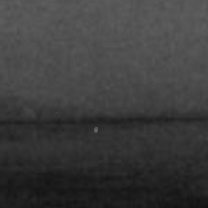Target: (93, 126, 99, 133)
